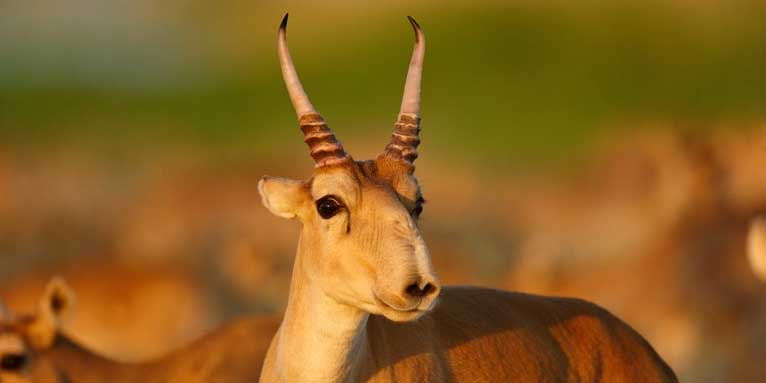saiga: (256, 12, 674, 383)
